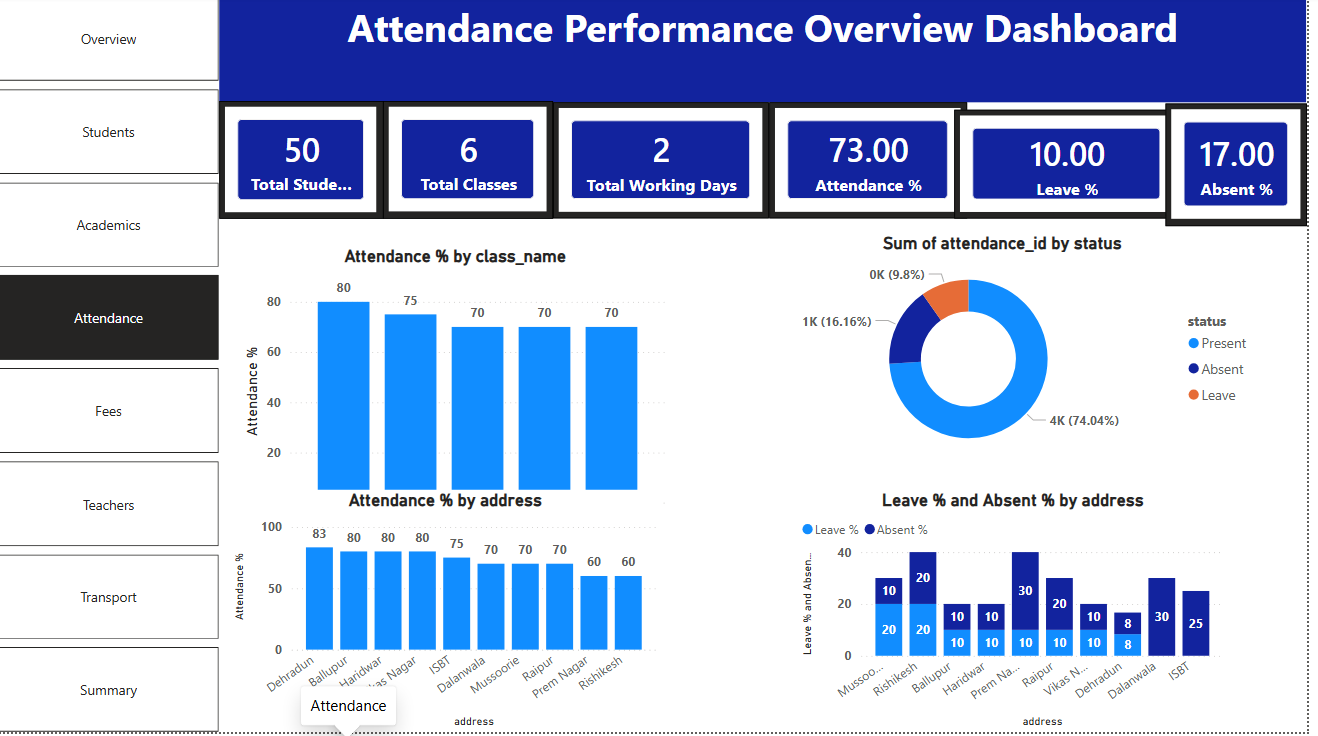

The page's visual inventory and layout, read from the dashboard file:
{"tool":"powerbi","page":{"name":"Attendance","canvas":[1280,720],"ordinal":3},"visuals":[{"type":"pageNavigator","box":[0,0,216.4,720.2],"z":0},{"type":"textbox","box":[216.8,0,1063.5,104.3],"z":1000},{"type":"cardVisual","fields":{"Data":["CountNonNull(students.student_id)"]},"box":[216.8,102.9,160.5,115.3],"z":2000},{"type":"cardVisual","fields":{"Data":["CountNonNull(teachers.teacher_id)"]},"box":[376.6,102.7,166.3,114.9],"z":3000},{"type":"cardVisual","fields":{"Data":["attendance.Total Working Days"]},"box":[542.9,103.9,211.6,113.7],"z":4000},{"type":"cardVisual","fields":{"Data":["attendance.Attendance %"]},"box":[754.5,103.9,193.2,113.7],"z":5000},{"type":"cardVisual","fields":{"Data":["attendance.Leave %"]},"box":[935.5,111.3,220.1,106.4],"z":6000},{"type":"cardVisual","fields":{"Data":["attendance.Absent %"]},"box":[1142.1,105.2,138.2,119.8],"z":7000},{"type":"columnChart","fields":{"Category":["classes.class_name"],"Y":["attendance.Attendance %"]},"box":[236,244.3,422.6,295],"z":8000},{"type":"donutChart","fields":{"Category":["attendance.status"],"Y":["Sum(attendance.attendance_id)"]},"box":[730,244.3,505,229.2],"z":9000},{"type":"donutChart","fields":{"Category":["attendance.status"],"Y":["Sum(attendance.attendance_id)"]},"box":[730,230.5,505,229.2],"z":10000},{"type":"columnChart","fields":{"Y":["attendance.Attendance %"],"Category":["students.address"]},"box":[226.4,483,422.6,237.4],"z":11000},{"type":"columnChart","fields":{"Category":["students.address"],"Y":["attendance.Leave %","attendance.Absent %"]},"box":[780.8,483,422.6,237.4],"z":12000}]}

Visuals, with their boxes on the page's 1280x720 design canvas (x1, y1, x2, y2). These are canvas units, not pixel positions in the 1318x736 screenshot, which may show the page scaled, cropped or inside an application window:
pageNavigator: 0,0,216,720
textbox: 217,0,1280,104
cardVisual - CountNonNull(students.student_id): 217,103,377,218
cardVisual - CountNonNull(teachers.teacher_id): 377,103,543,218
cardVisual - attendance.Total Working Days: 543,104,754,218
cardVisual - attendance.Attendance %: 754,104,948,218
cardVisual - attendance.Leave %: 936,111,1156,218
cardVisual - attendance.Absent %: 1142,105,1280,225
columnChart - classes.class_name x attendance.Attendance %: 236,244,659,539
donutChart - attendance.status x Sum(attendance.attendance_id): 730,244,1235,474
donutChart - attendance.status x Sum(attendance.attendance_id): 730,230,1235,460
columnChart - attendance.Attendance % x students.address: 226,483,649,720
columnChart - students.address x attendance.Leave %: 781,483,1203,720
